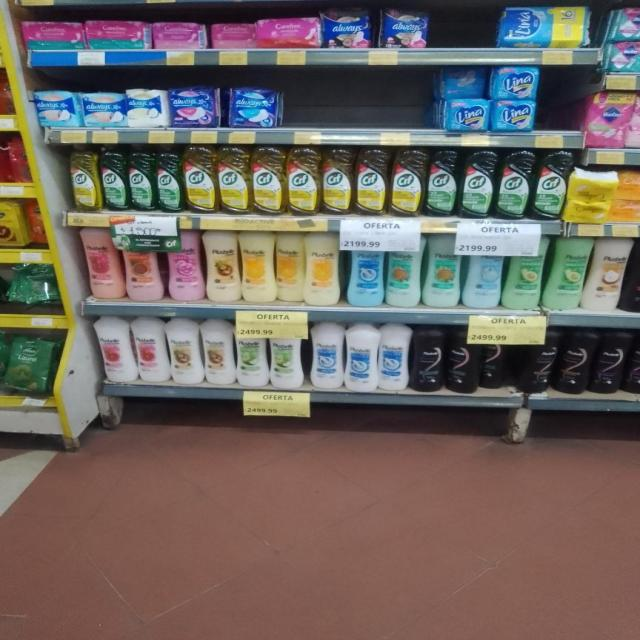cif_conc_bot_amarilla: (251, 146, 285, 217), (391, 147, 425, 217), (355, 147, 389, 216), (287, 146, 320, 216), (218, 145, 250, 215), (184, 144, 216, 214), (322, 147, 354, 216), (69, 143, 99, 213)
cif_conc_botella_verde: (534, 150, 568, 221), (497, 149, 531, 220), (461, 149, 495, 219), (426, 149, 458, 218), (156, 143, 182, 213), (128, 142, 154, 212), (101, 143, 127, 212)
